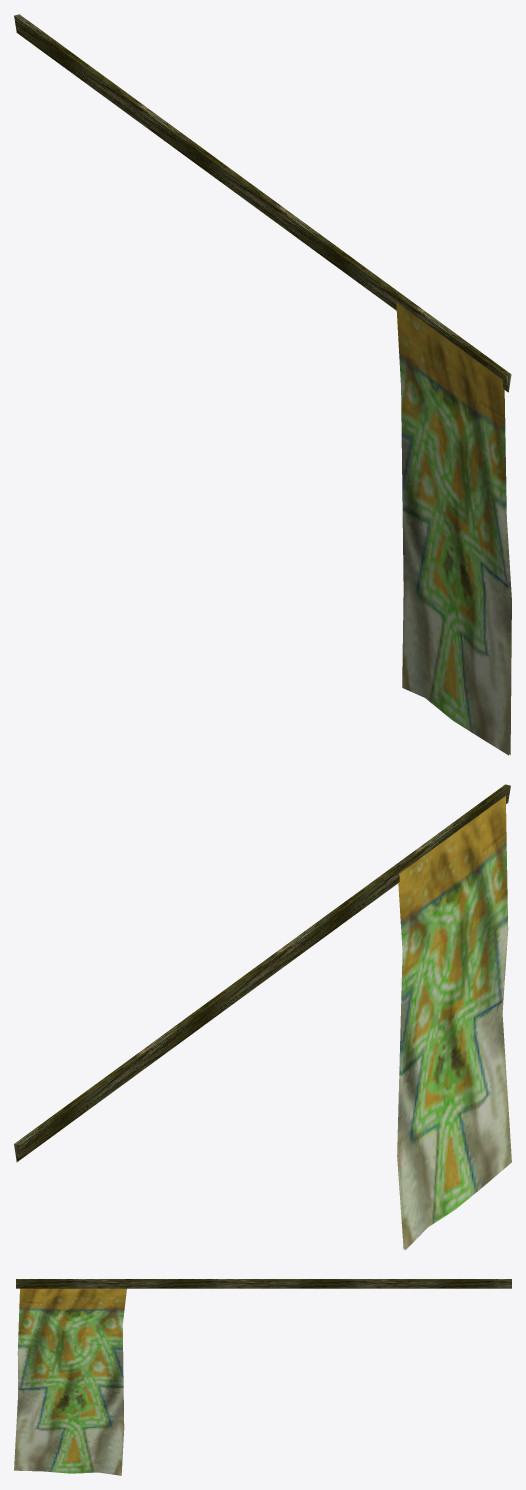
3 views of the same model, one above another, from view 1: azimuth 30°, elevation 25°; view 2: azimuth 150°, elevation 25°; view 3: azimuth 270°, elevation 25° (orthographic). The views are drawn at different scales.
Visible parts, largest first — view 1: TN2_F5-col; view 2: TN2_F5-col; view 3: TN2_F5-col.
Part boxes in pixels (x1,y1,x2,y2): TN2_F5-col: (14, 14, 511, 755); TN2_F5-col: (14, 784, 511, 1249); TN2_F5-col: (14, 1279, 511, 1475).
Size of the model in its own units: 0.0364 by 1.41 by 3.24.
2 materials, 2 textured.
